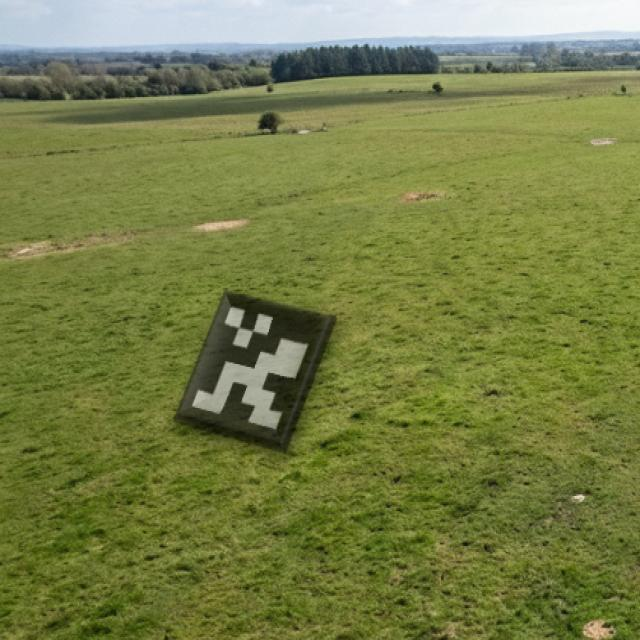marker: (166, 280, 350, 462)
